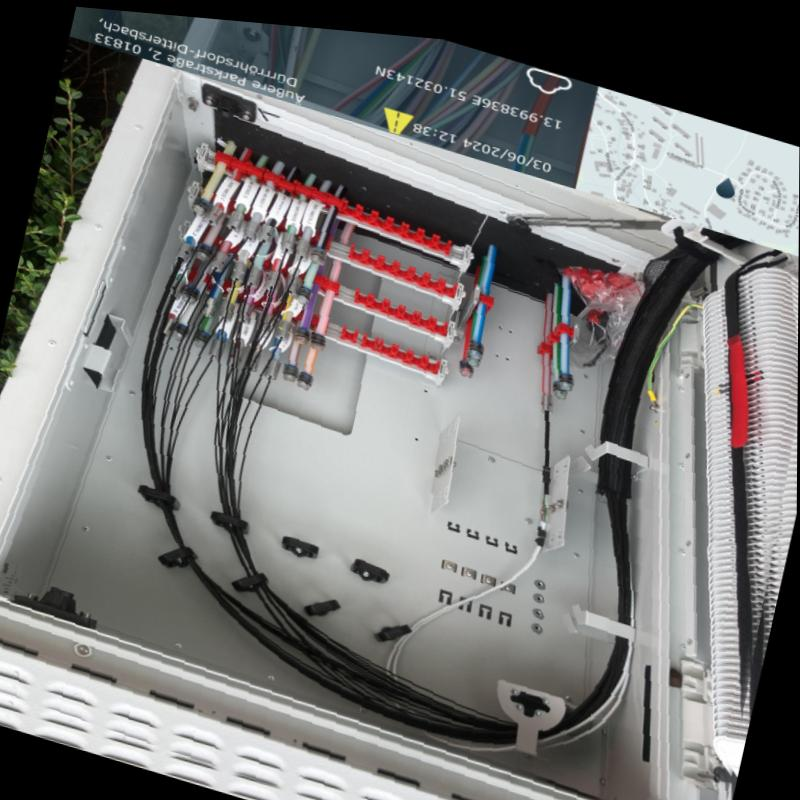NT-Gehause: (0, 56, 799, 800)
